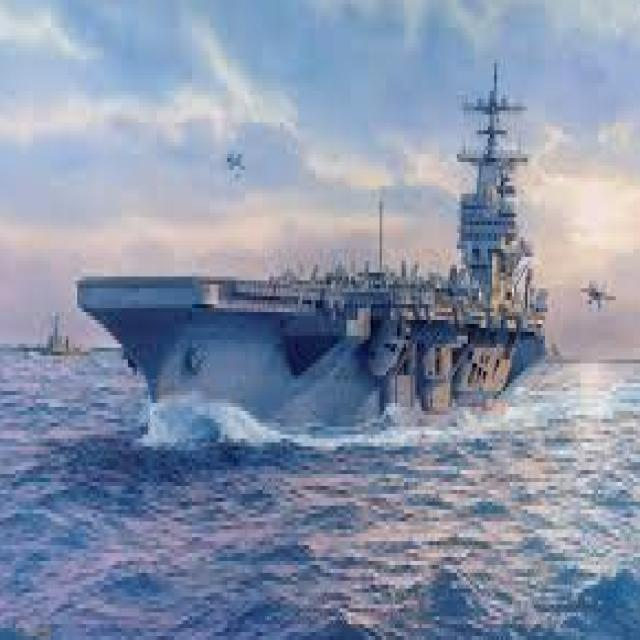navalvessels: (76, 64, 564, 449)
